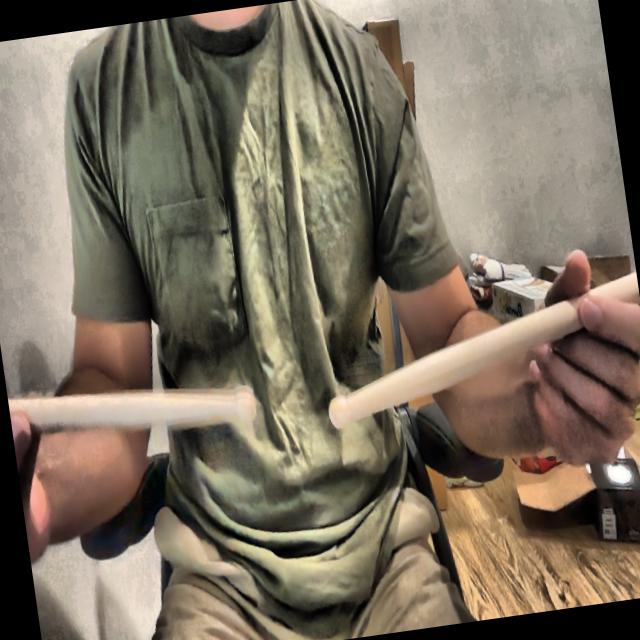Drumstick-Heads: (324, 388, 354, 438), (232, 384, 258, 430)
